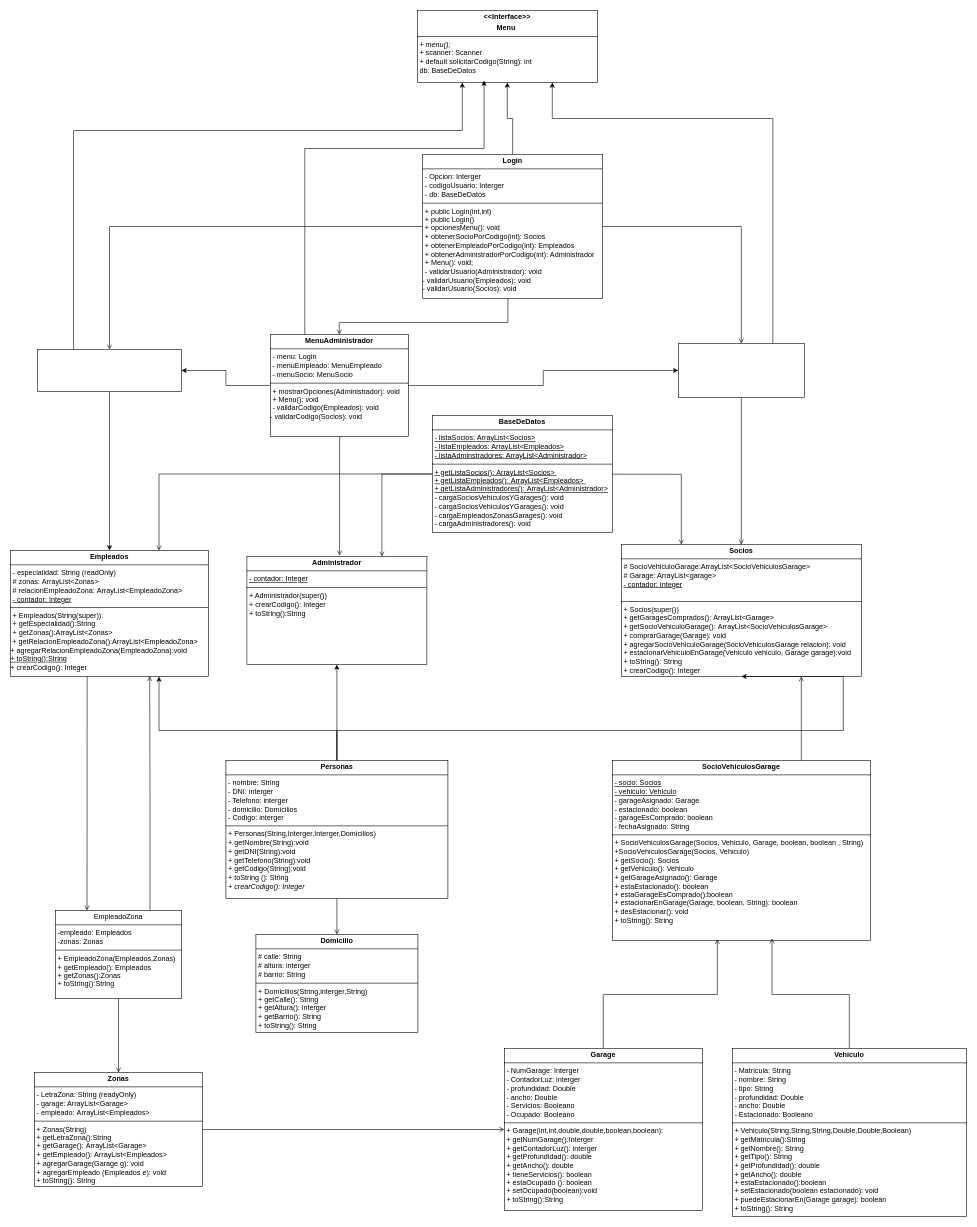
The diagram is 977 pixels wide and 1227 high, and some of its shapes have lost their labels. The shapes that lost their labels are listed below. From the top down, each one's centre as x and y in pixels, then its label:
At (x=109, y=370): "MenuEmpleado + mostrarOpciones(Empleado): void + Menu(): void".
At (x=741, y=370): "MenuSocio + mostrarOpciones(Socios): void + Menu(): void".
